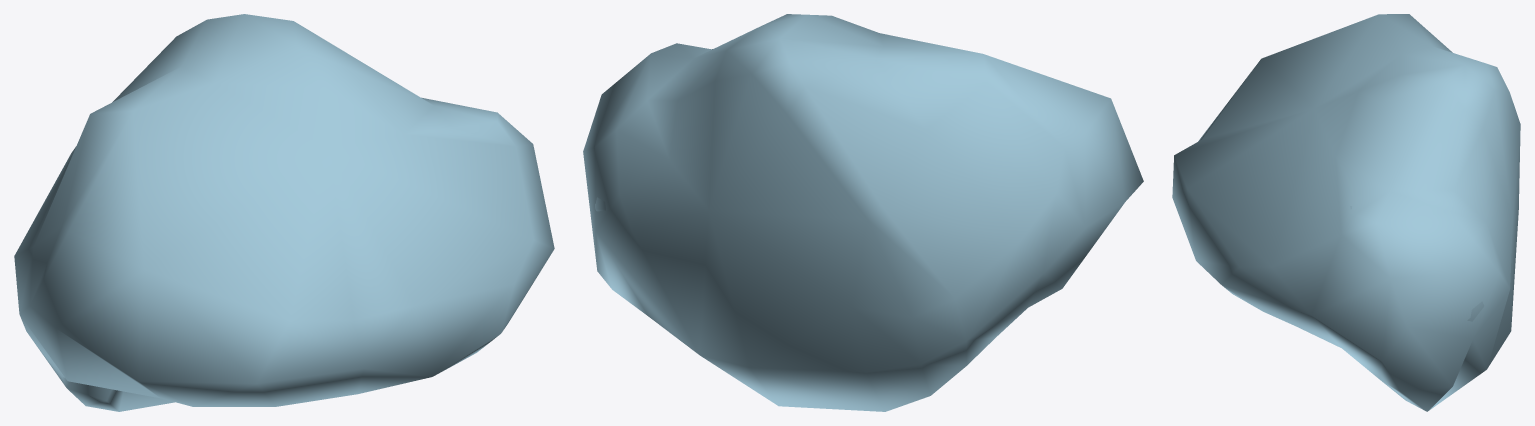
The model's file is articulacoes-articular-disc-of-temporomandibular-joint-r.glb.
The picture shows the model from 3 angles, left to right: view 1: azimuth 30°, elevation 25°; view 2: azimuth 150°, elevation 25°; view 3: azimuth 270°, elevation 25°; orthographic projection. The views are drawn at different scales.
Visible parts, largest first — view 1: Articular disc of temporomandibular joint.r; view 2: Articular disc of temporomandibular joint.r; view 3: Articular disc of temporomandibular joint.r.
Part boxes in pixels (x1,y1,x2,y2): Articular disc of temporomandibular joint.r: (14,14,554,411); Articular disc of temporomandibular joint.r: (583,14,1143,411); Articular disc of temporomandibular joint.r: (1172,14,1520,411).
Bounding box in the file's own units: 0.0193 × 0.0134 × 0.0139.
